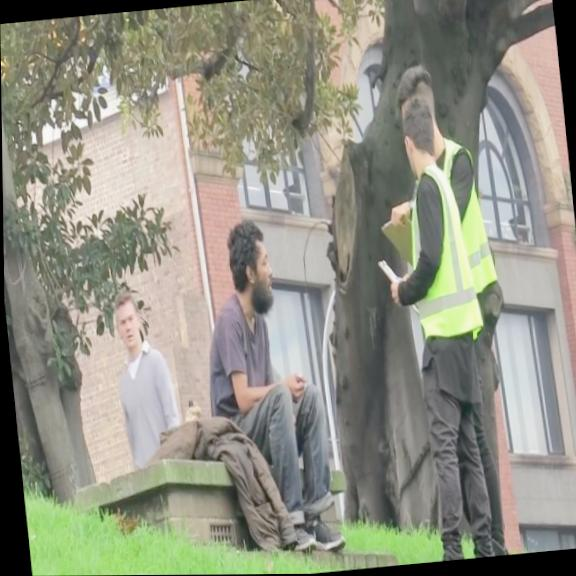safety_vest: (401, 161, 486, 348), (439, 127, 500, 295)
